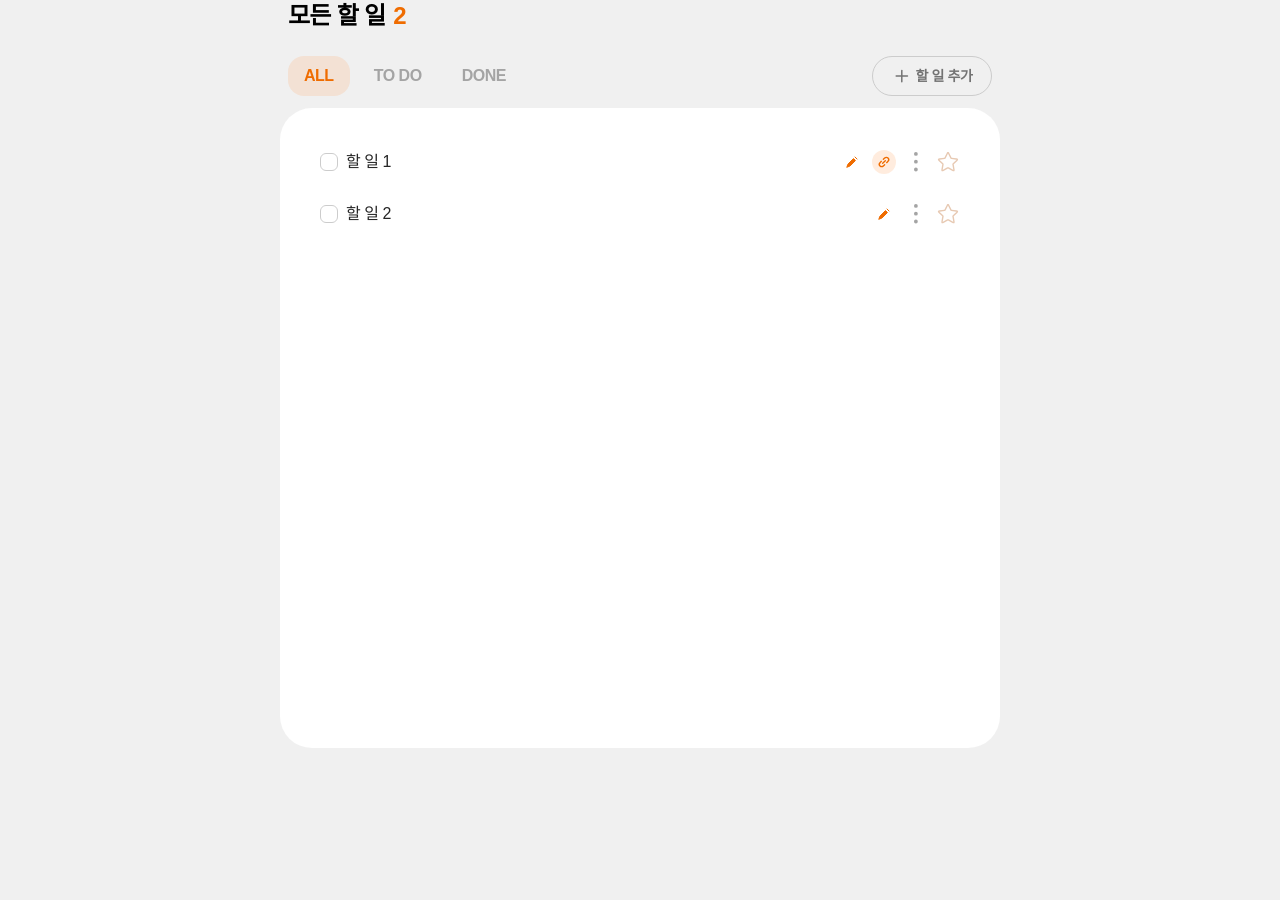
Test: 할 일 아이템 상호작용 › 케밥 > 삭제하기 › 확인하면 DELETE를 보내고 목록에서 빼고 개수를 줄인다
The width and height of the screenshot is (1280, 900).
Check: the button "할 일 1" is shown, box [346,150,832,174]
Check: the heading "모든 할 일 2" is shown, box [288,2,406,29]
Click the 1st button named "더보기" at (916, 162), box [904,150,928,174]
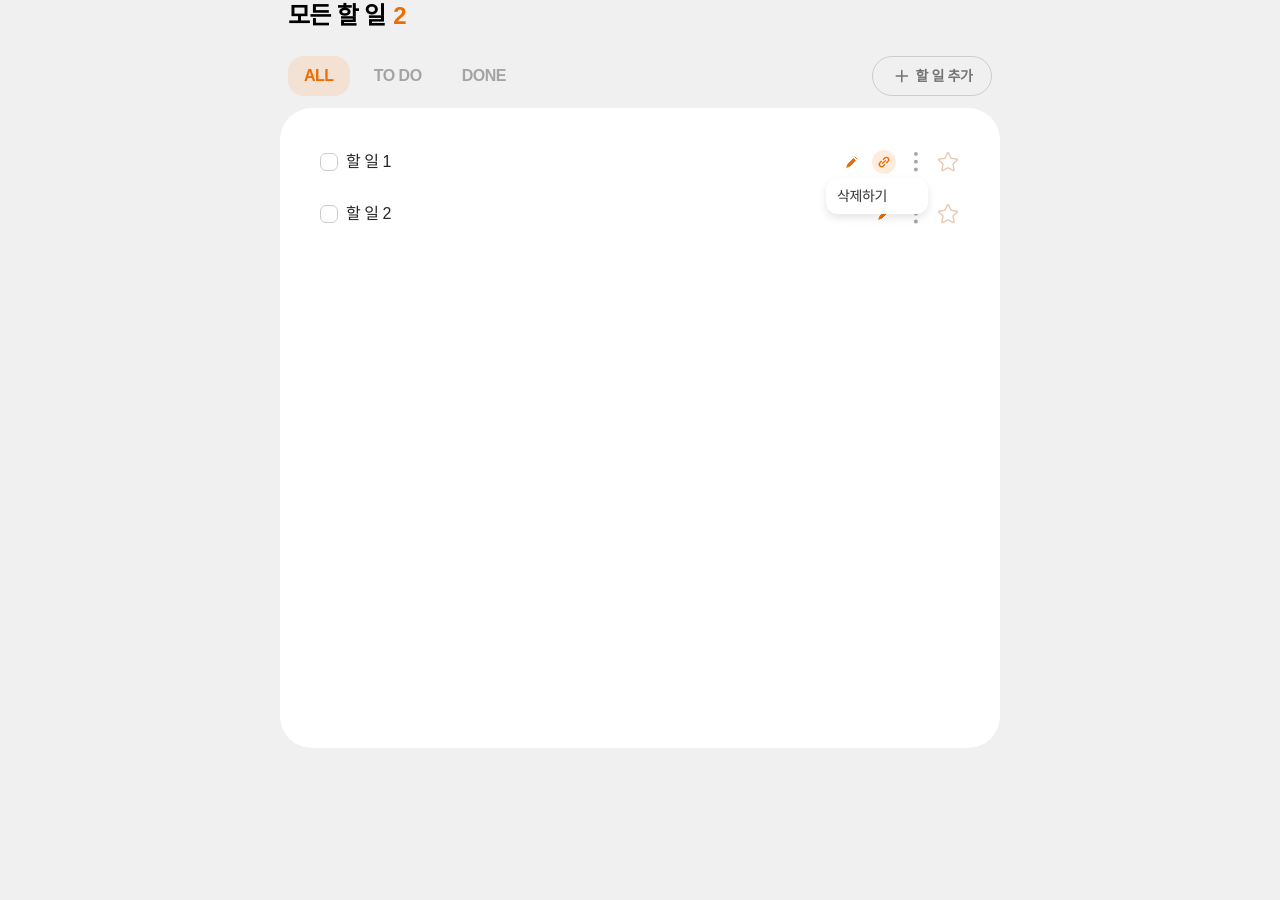
Click the menu item "삭제하기" at (862, 196), box [837,188,887,204]
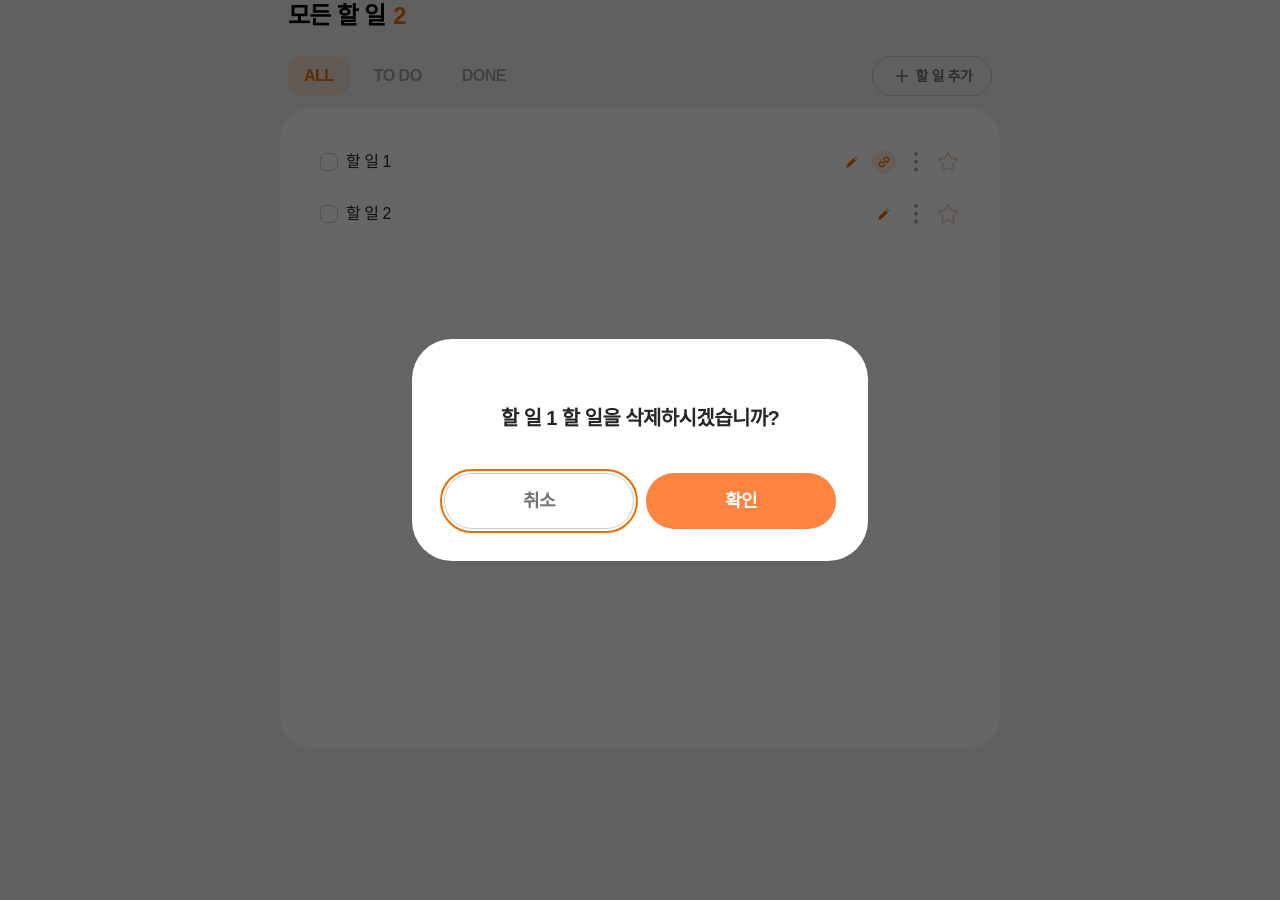
Click the button "확인" at (741, 501), box [646,473,836,529]
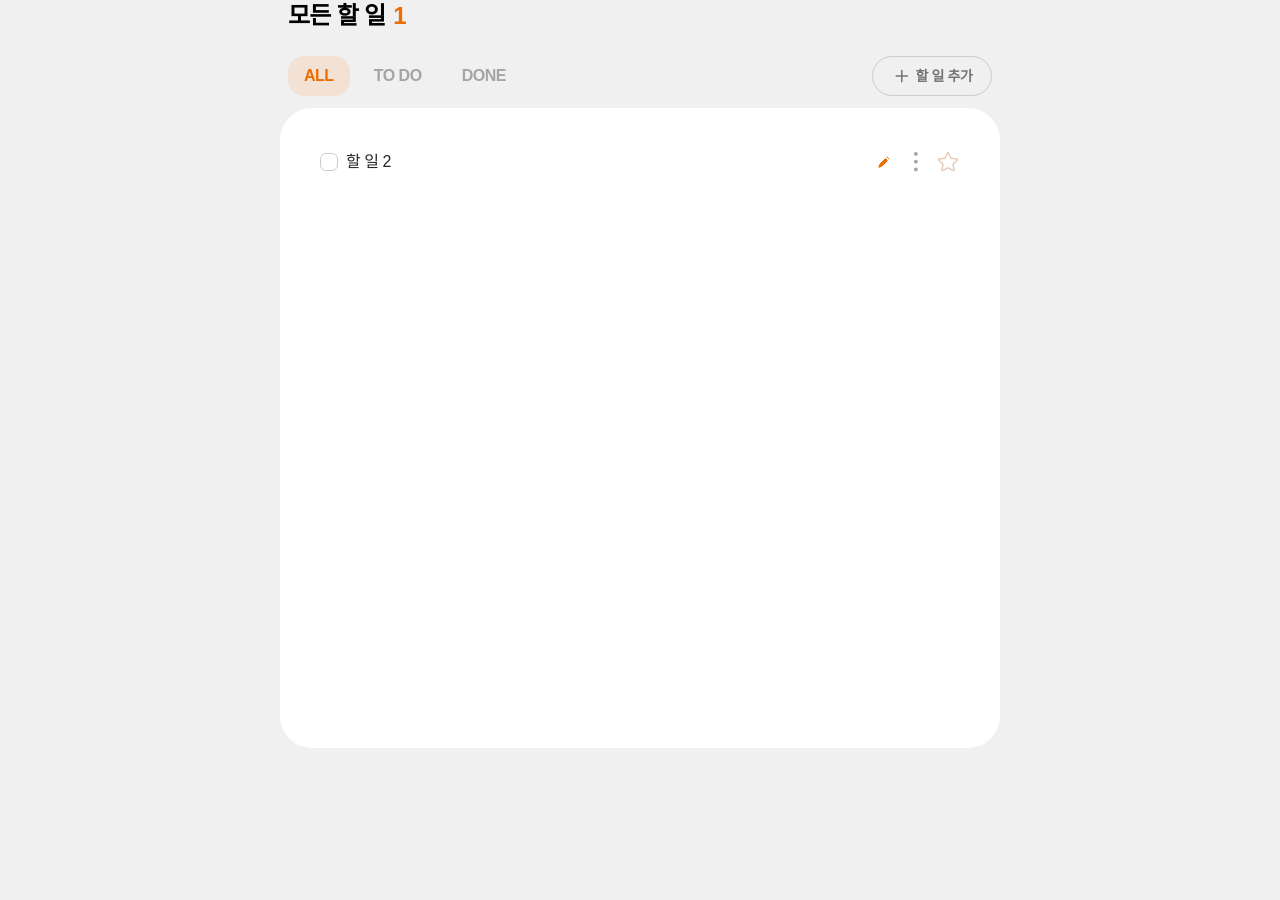
Check: the dialog is gone
Check: the heading "모든 할 일 1" is shown, box [288,2,406,29]
